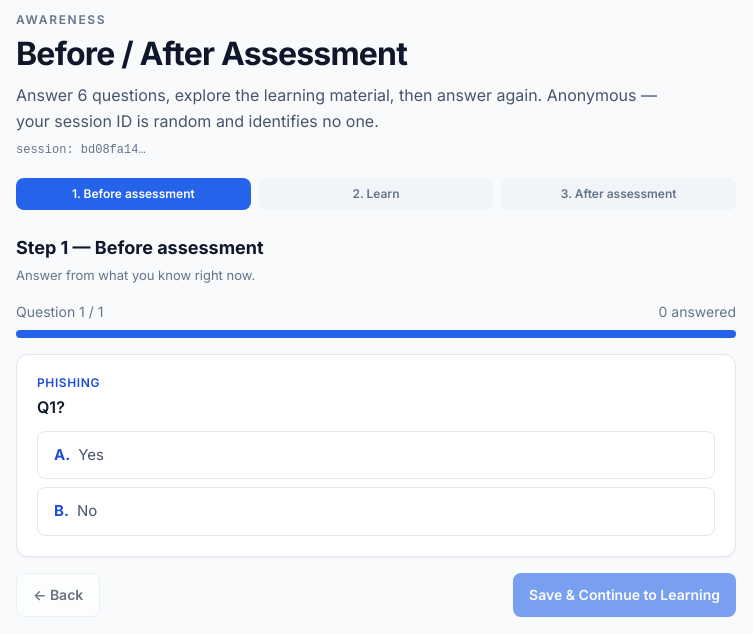
Test: awareness flow › before assessment submits and moves to the learn stage
Check: the heading "Before / After Assessment" is shown, box [16, 34, 407, 73]
Click the button "A.Yes".
click(60, 454)  # box [37, 430, 715, 479]
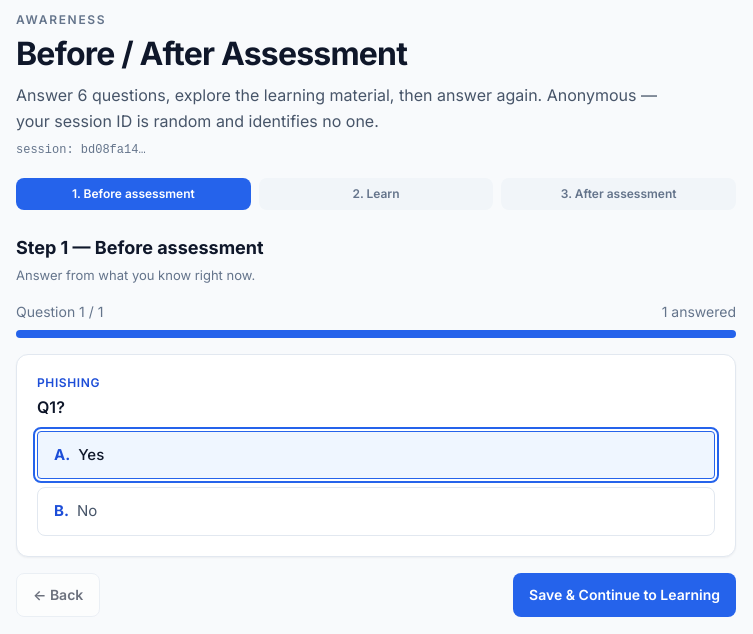
Click the button "Save & Continue to Learning".
click(625, 594)  # box [513, 572, 736, 616]
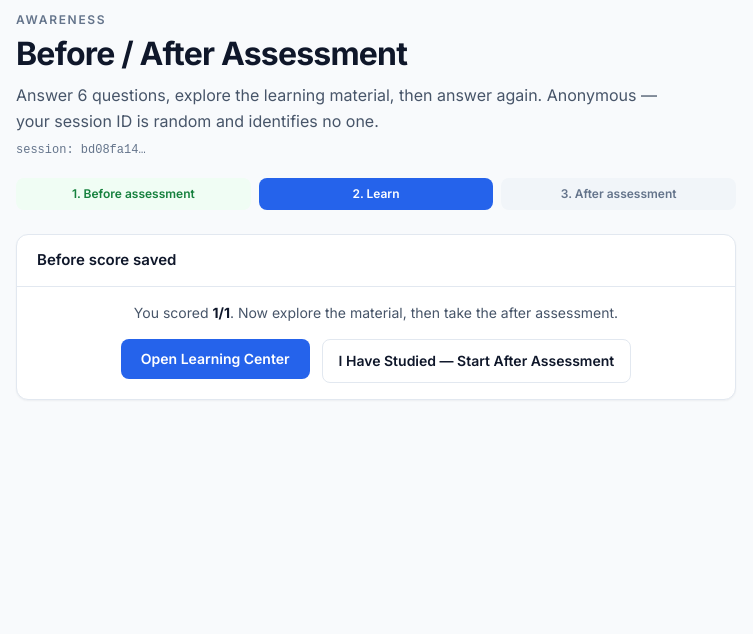
Check: the heading "Before score saved" is shown, box [37, 249, 176, 272]
Check: the button "I Have Studied — Start After Assessment" is shown, box [322, 338, 631, 382]
